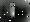person: (7, 4, 15, 19)
